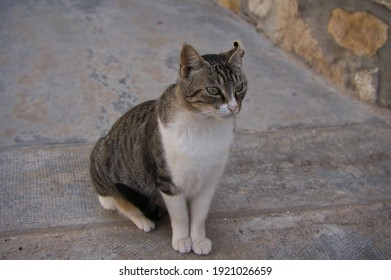cat: (83, 38, 268, 248)
